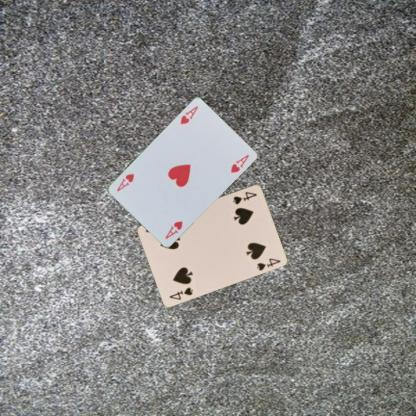4s: (167, 284, 194, 301), (230, 189, 258, 205)
Ah: (162, 218, 184, 240), (178, 104, 200, 126)
